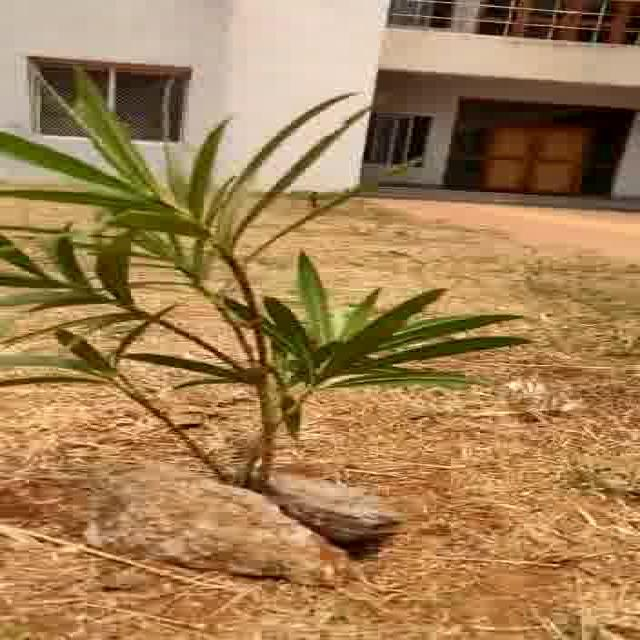OLEANDER: (10, 47, 546, 463)
